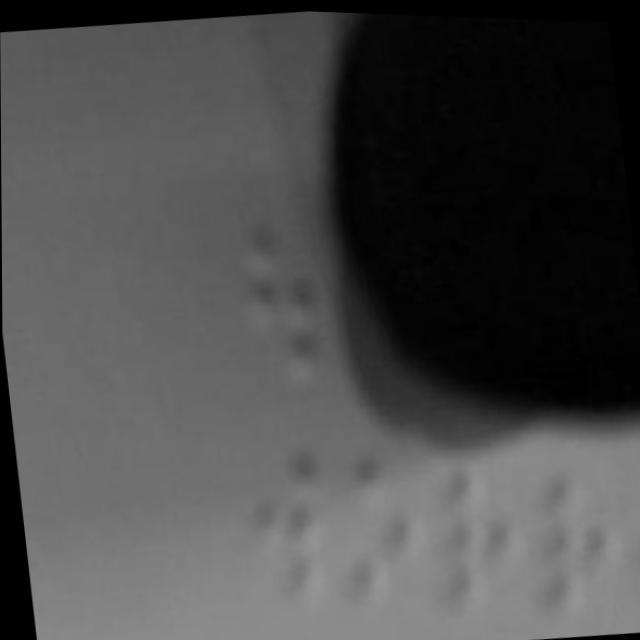braiile: (518, 438, 634, 628), (235, 430, 342, 625), (329, 439, 441, 622), (232, 216, 334, 410), (428, 431, 532, 618)
